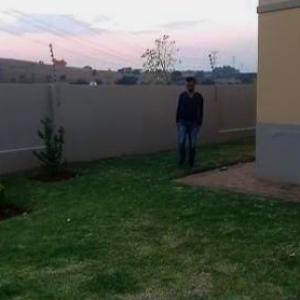follow: (174, 74, 207, 170)
